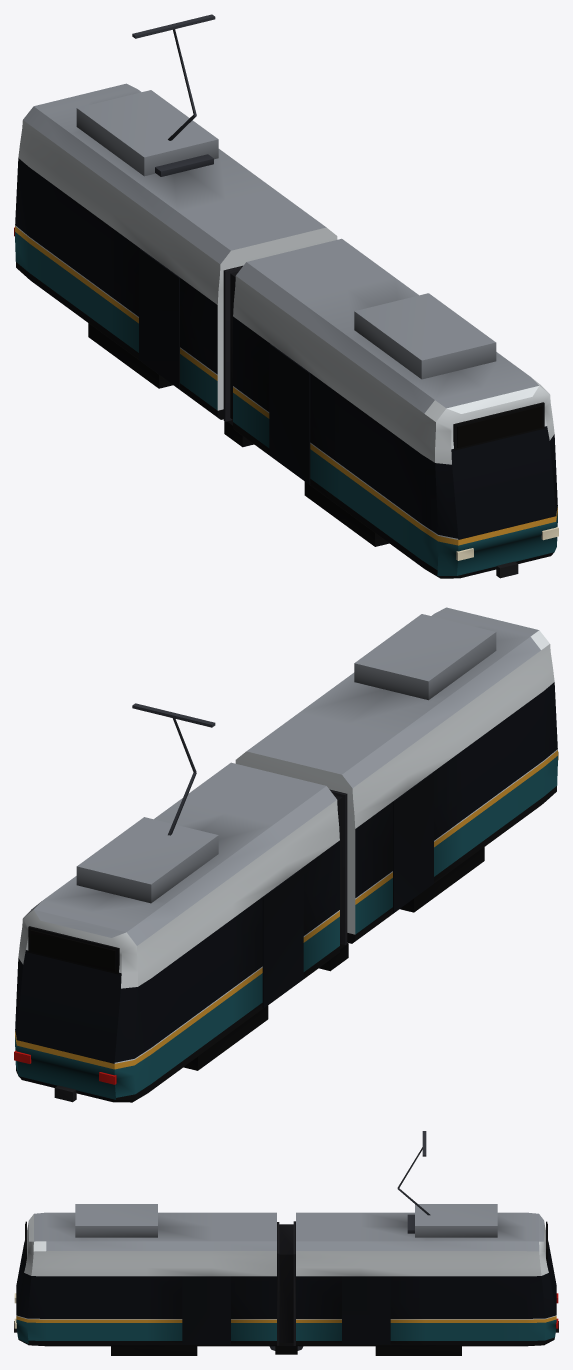
The model's file is prop.town.tram_lite.glb.
3 views of the same model, one above another, from view 1: azimuth 30°, elevation 25°; view 2: azimuth 150°, elevation 25°; view 3: azimuth 270°, elevation 25° (orthographic). The views are drawn at different scales.
Visible parts, largest first — view 1: v0_LOD0; view 2: v0_LOD0; view 3: v0_LOD0.
Part boxes in pixels (x1,y1,x2,y2): v0_LOD0: (14,14,558,578); v0_LOD0: (14,607,558,1102); v0_LOD0: (14,1131,558,1355).
Bounding box in the file's own units: 2.34 × 5.89 × 14.52.
